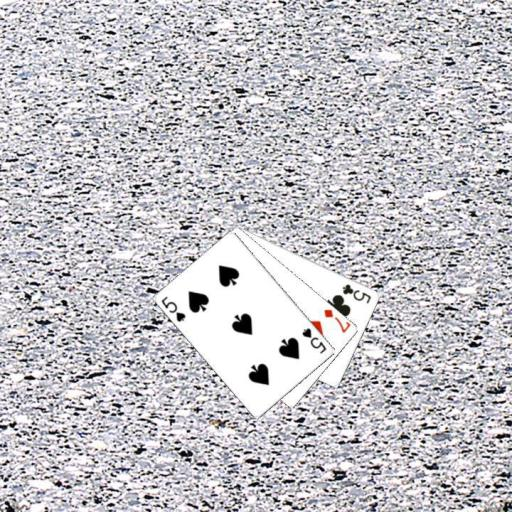5C: (340, 281, 373, 305)
5S: (299, 324, 328, 355), (159, 293, 187, 324)
7D: (321, 306, 351, 334)
